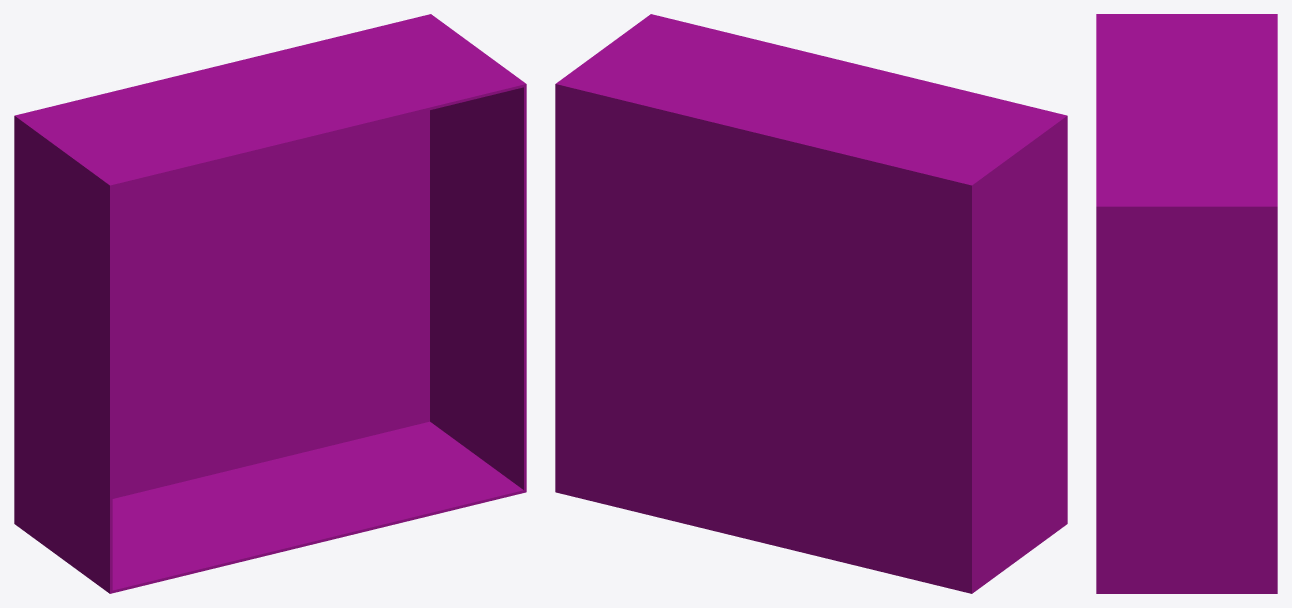
The model's file is corpus.glb.
3 renders of one model, left to right at view 1: azimuth 30°, elevation 25°; view 2: azimuth 150°, elevation 25°; view 3: azimuth 270°, elevation 25°, orthographic. The views are drawn at different scales.
Parts seen in each view (by area): view 1: corpus; view 2: corpus; view 3: corpus.
Boxes of the visible parts, x1,y1,x2,y2 form: corpus: (14,14,526,593); corpus: (555,14,1067,593); corpus: (1096,14,1277,593).
Size of the model in its own units: 0.4483 by 0.42 by 0.1781.
